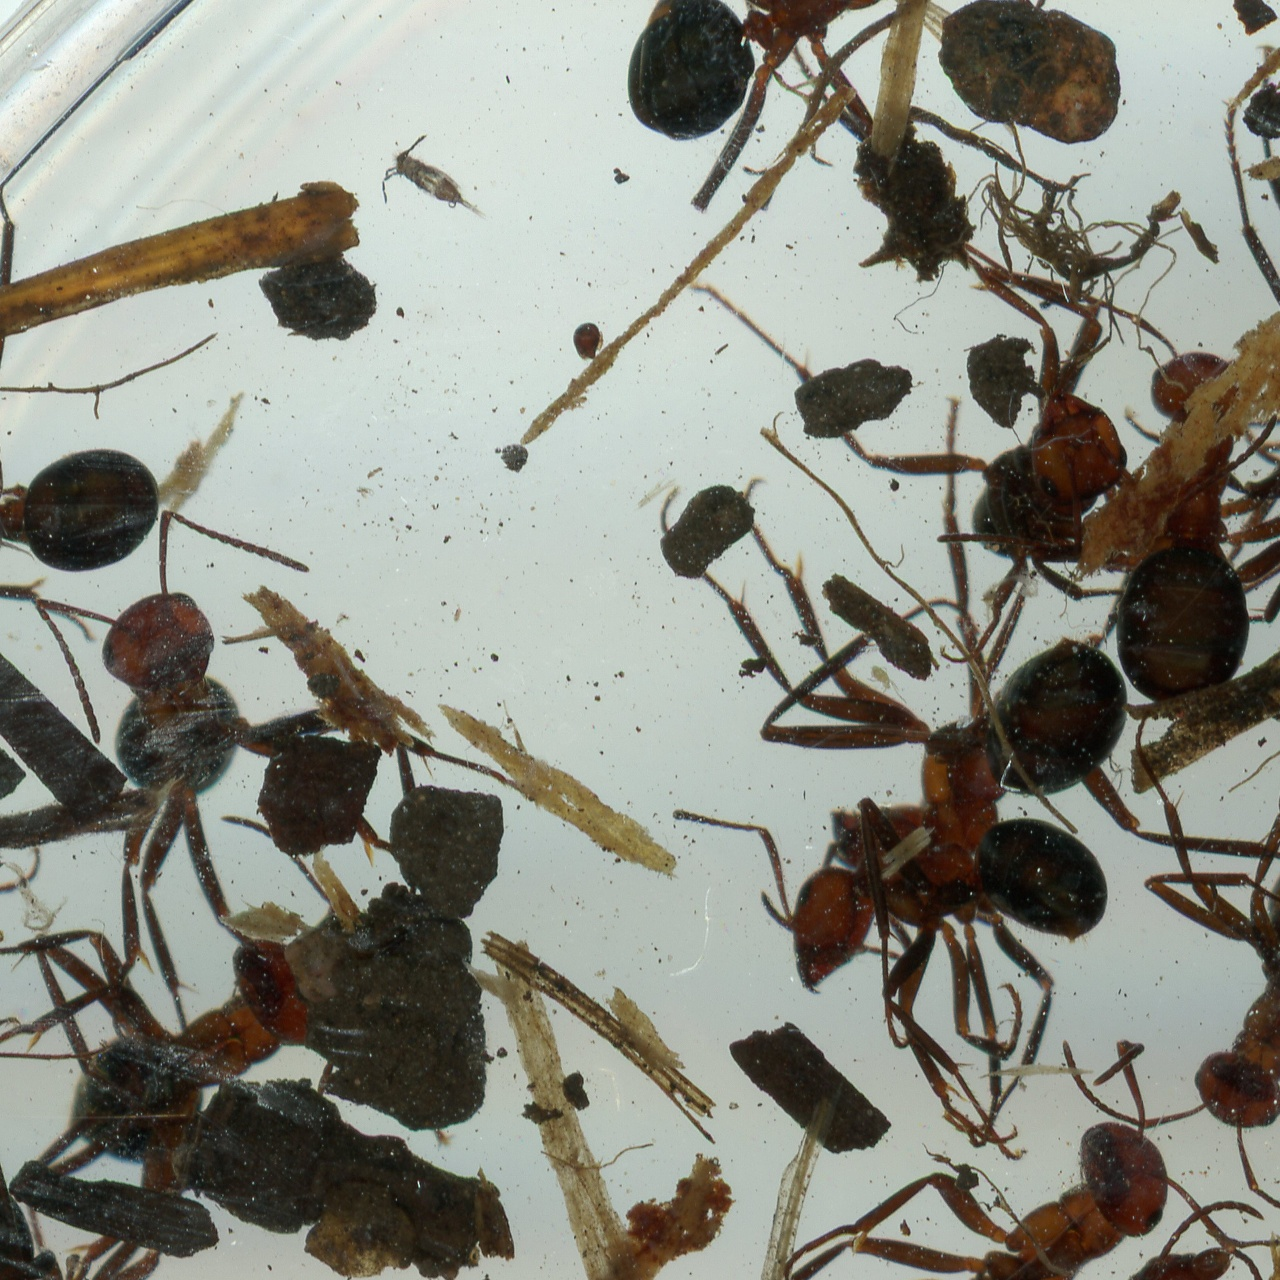arthropod: (0, 436, 509, 1159), (649, 457, 1133, 966), (668, 788, 1149, 1157), (1038, 675, 1280, 1275), (0, 800, 362, 1198), (697, 282, 1137, 568), (1011, 254, 1280, 713), (768, 994, 1149, 1280), (573, 0, 1052, 224), (0, 480, 128, 1264), (0, 987, 334, 1280), (0, 175, 164, 649), (1199, 183, 1280, 733), (1177, 931, 1280, 1280), (364, 116, 517, 259), (1068, 1188, 1280, 1280), (857, 657, 922, 707), (570, 320, 607, 363)
